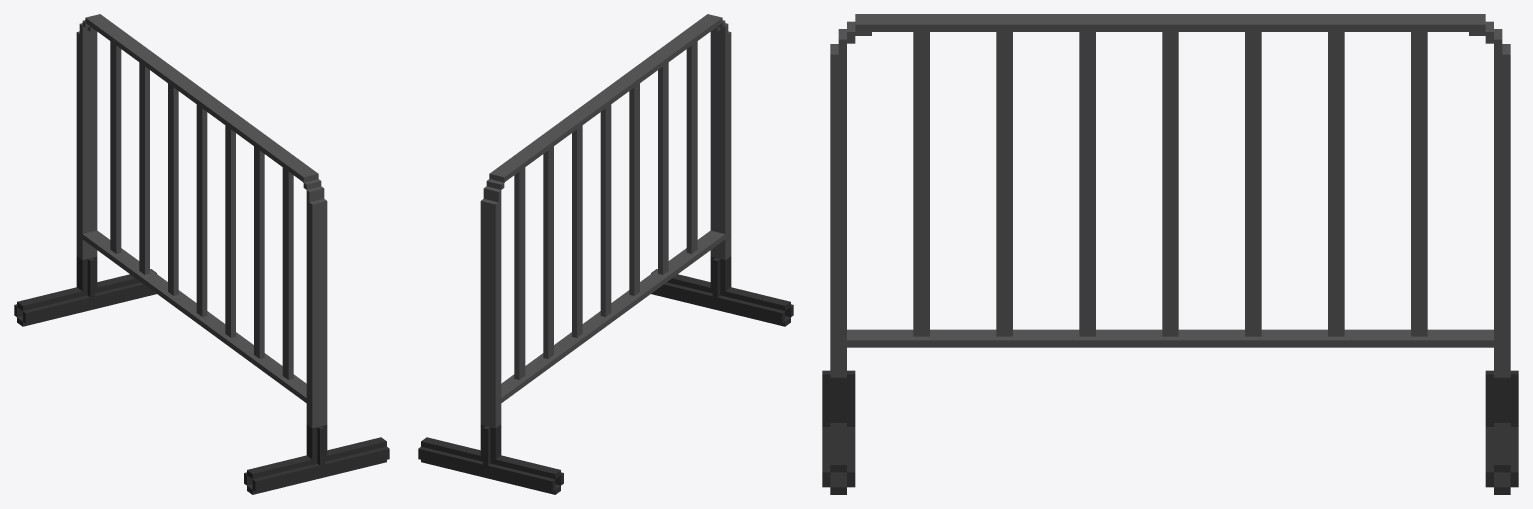
Rendered from SM_Barricade_02T.fbx.
The picture shows the model from 3 angles, left to right: view 1: azimuth 30°, elevation 25°; view 2: azimuth 150°, elevation 25°; view 3: azimuth 270°, elevation 25°; orthographic projection. The views are drawn at different scales.
Visible parts, largest first — view 1: SM_Barricade_02T; view 2: SM_Barricade_02T; view 3: SM_Barricade_02T.
Part boxes in pixels (x1=…): SM_Barricade_02T: x1=14, y1=14, x2=389, y2=494; SM_Barricade_02T: x1=418, y1=14, x2=793, y2=494; SM_Barricade_02T: x1=822, y1=14, x2=1518, y2=494.
Size of the model in its own units: 27 by 57 by 84.
